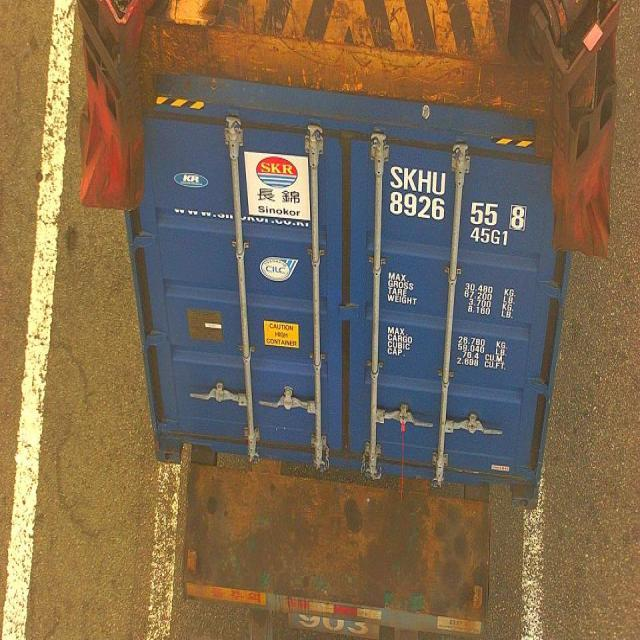ISO: (469, 228, 511, 246)
container_number: (388, 160, 530, 230)
